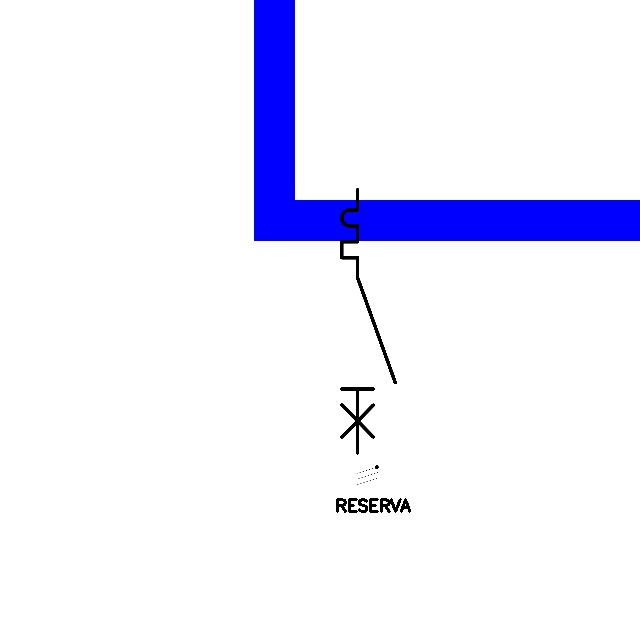interruptor_termomagnetico: (335, 183, 402, 459)
